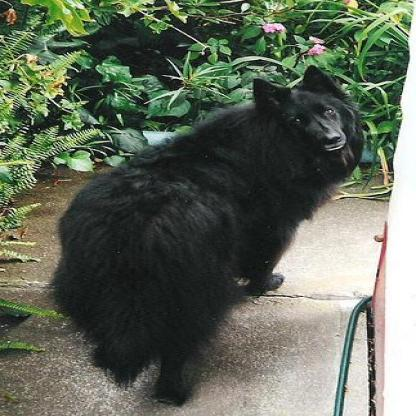groenendael: (53, 61, 362, 407)
